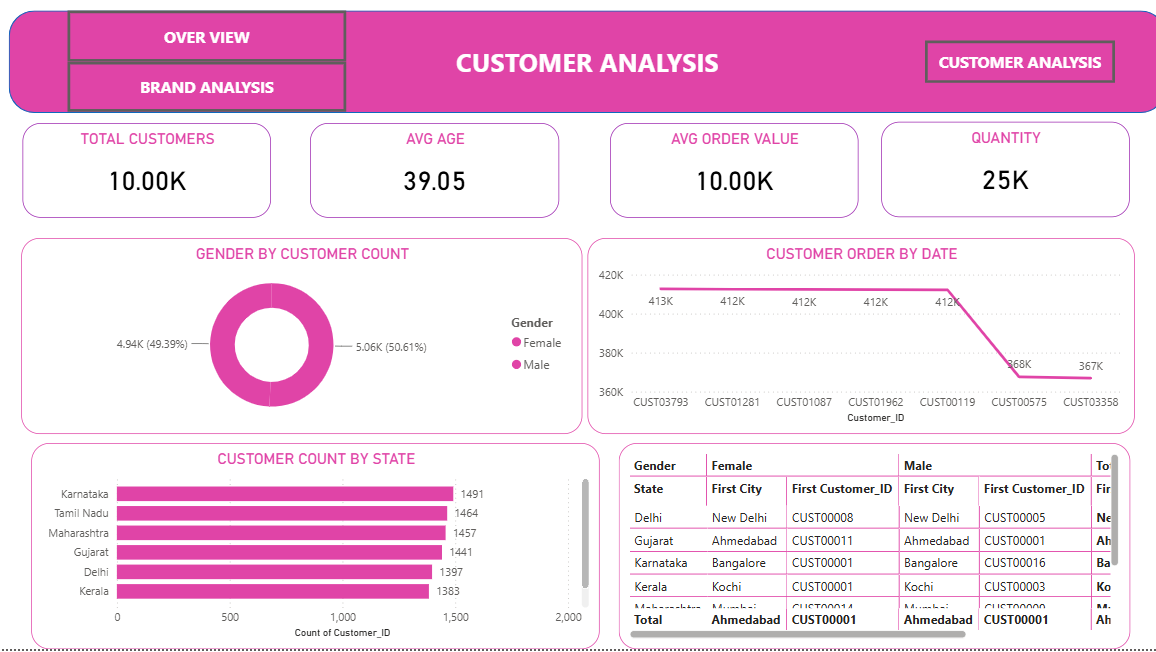

The page's visual inventory and layout, read from the dashboard file:
{"tool":"powerbi","page":{"name":"CUSTOMER ANALYSIS","canvas":[1280,720],"ordinal":2},"visuals":[{"type":"shape","box":[9.6,19.2,1270.7,112.5],"z":0},{"type":"card","title":"TOTAL CUSTOMERS","fields":{"Values":["CountNonNull(Myntra_Sales_Data.Customer_ID)"]},"box":[24.7,142.7,273.1,104.3],"z":1000},{"type":"card","title":"AVG AGE","fields":{"Values":["Avg(Myntra_Sales_Data.Age)"]},"box":[339.9,143.1,273.9,103.9],"z":2000},{"type":"card","title":"AVG ORDER VALUE","fields":{"Values":["CountNonNull(Myntra_Sales_Data.Order_ID)"]},"box":[670.1,143.1,272.7,103.9],"z":3000},{"type":"card","title":"QUANTITY","fields":{"Values":["Sum(Myntra_Sales_Data.Quantity)"]},"box":[967.3,141.8,272.7,105.2],"z":4000},{"type":"donutChart","title":"GENDER BY CUSTOMER COUNT","fields":{"Category":["Myntra_Sales_Data.Gender"],"Y":["CountNonNull(Myntra_Sales_Data.Customer_ID)"]},"box":[23.3,269,616.1,215.4],"z":5000},{"type":"barChart","title":"CUSTOMER COUNT BY STATE","fields":{"Category":["Myntra_Sales_Data.State"],"Y":["CountNonNull(Myntra_Sales_Data.Customer_ID)"]},"box":[34.3,494,624.4,226.4],"z":6000},{"type":"lineChart","title":"CUSTOMER ORDER BY DATE","fields":{"Y":["Sum(Myntra_Sales_Data.Order_Date)"],"Category":["Myntra_Sales_Data.Customer_ID"]},"box":[644.9,269,601,215.4],"z":7000},{"type":"pivotTable","fields":{"Rows":["Myntra_Sales_Data.State"],"Columns":["Myntra_Sales_Data.Gender"],"Values":["Min(Myntra_Sales_Data.City)","Min(Myntra_Sales_Data.Customer_ID)"]},"box":[679.2,494,561.2,226.4],"z":8000},{"type":"actionButton","box":[74.1,19.2,306,56.3],"z":9000},{"type":"actionButton","box":[74.1,75.5,306,54.9],"z":10000},{"type":"actionButton","box":[1015.4,52.1,208.6,46.7],"z":11000}]}

Visuals, with their boxes in screenshot pixels (x1, y1, x2, y2), scaled from the page's 1280x720 canvas onto the 1156x652 screenshot:
shape: bbox=(9, 17, 1155, 119)
"TOTAL CUSTOMERS" card: bbox=(22, 129, 269, 224)
"AVG AGE" card: bbox=(307, 130, 554, 224)
"AVG ORDER VALUE" card: bbox=(605, 130, 851, 224)
"QUANTITY" card: bbox=(874, 128, 1120, 224)
"GENDER BY CUSTOMER COUNT" donutChart: bbox=(21, 244, 577, 439)
"CUSTOMER COUNT BY STATE" barChart: bbox=(31, 447, 595, 651)
"CUSTOMER ORDER BY DATE" lineChart: bbox=(582, 244, 1125, 439)
pivotTable - Myntra_Sales_Data.State x Myntra_Sales_Data.Gender: bbox=(613, 447, 1120, 651)
actionButton: bbox=(67, 17, 343, 68)
actionButton: bbox=(67, 68, 343, 118)
actionButton: bbox=(917, 47, 1105, 89)
